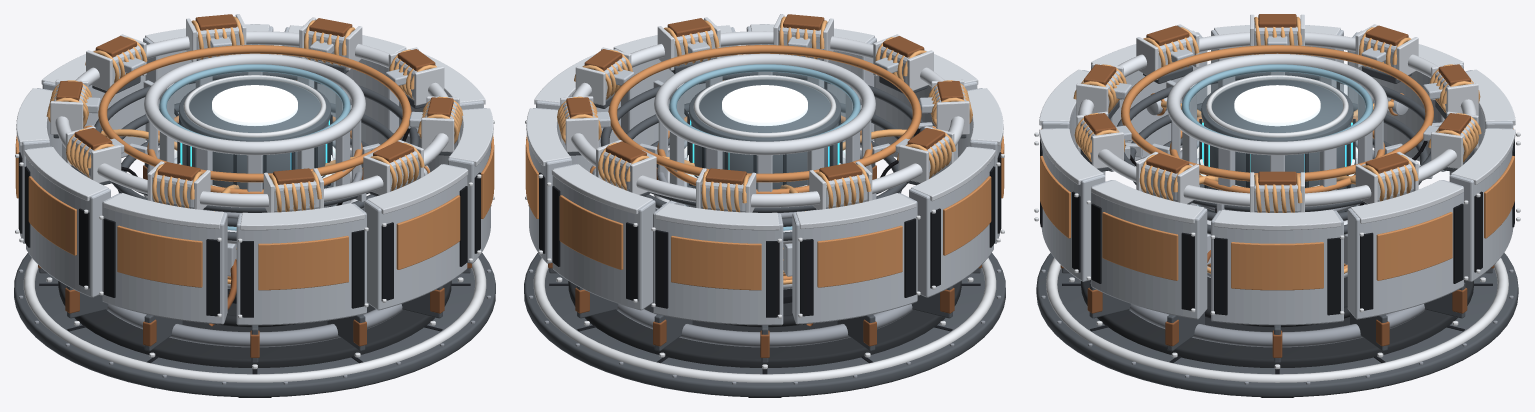
File: arc_reactor.glb
3 views of the same model, side by side, from view 1: azimuth 30°, elevation 25°; view 2: azimuth 150°, elevation 25°; view 3: azimuth 270°, elevation 25° (orthographic).
Parts seen in each view (by area): view 1: base_plate, base_inner, shell_07_plate, chamber_ring_top, shell_06_plate, base_ring, topcap_ring, topcap_ring_inner, shell_08_plate, glass_cylinder, shell_07_copper, shell_05_plate (+76 smaller); view 2: base_plate, base_inner, shell_03_plate, chamber_ring_top, shell_04_plate, base_ring, topcap_ring, topcap_ring_inner, shell_02_plate, glass_cylinder, shell_03_copper, shell_05_plate (+77 smaller); view 3: base_plate, base_inner, shell_00_plate, chamber_ring_top, shell_01_plate, shell_09_plate, topcap_ring, base_ring, topcap_ring_inner, glass_cylinder, shell_00_copper, topcap_lens_rim (+76 smaller).
Part boxes in pixels (x1,y1,x2,y2): base_plate: [14, 253, 495, 397]; base_inner: [58, 281, 451, 367]; shell_07_plate: [236, 203, 366, 325]; chamber_ring_top: [144, 53, 365, 155]; shell_06_plate: [102, 193, 227, 324]; base_ring: [23, 195, 486, 382]; topcap_ring: [55, 31, 448, 207]; topcap_ring_inner: [98, 45, 411, 182]; shell_08_plate: [364, 164, 467, 310]; glass_cylinder: [167, 70, 342, 206]; shell_07_copper: [258, 235, 348, 290]; shell_05_plate: [26, 146, 110, 297]; base_plate: [524, 253, 1005, 397]; base_inner: [568, 281, 961, 367]; shell_03_plate: [653, 203, 783, 325]; chamber_ring_top: [654, 53, 875, 155]; shell_04_plate: [792, 193, 917, 324]; base_ring: [533, 195, 996, 382]; topcap_ring: [571, 31, 964, 207]; topcap_ring_inner: [608, 45, 921, 182]; shell_02_plate: [552, 164, 655, 310]; glass_cylinder: [677, 70, 852, 206]; shell_03_copper: [671, 235, 761, 290]; shell_05_plate: [909, 146, 993, 297]; base_plate: [1036, 253, 1518, 397]; base_inner: [1081, 276, 1473, 367]; shell_00_plate: [1211, 210, 1343, 325]; chamber_ring_top: [1166, 53, 1388, 155]; shell_01_plate: [1347, 180, 1463, 319]; shell_09_plate: [1091, 180, 1207, 319]; topcap_ring: [1078, 32, 1476, 206]; base_ring: [1046, 258, 1508, 382]; topcap_ring_inner: [1121, 45, 1433, 181]; glass_cylinder: [1189, 70, 1365, 212]; shell_00_copper: [1231, 242, 1323, 290]; topcap_lens_rim: [1201, 80, 1353, 141].
Size of the model in its own units: 3.8 by 1.79 by 3.83.
